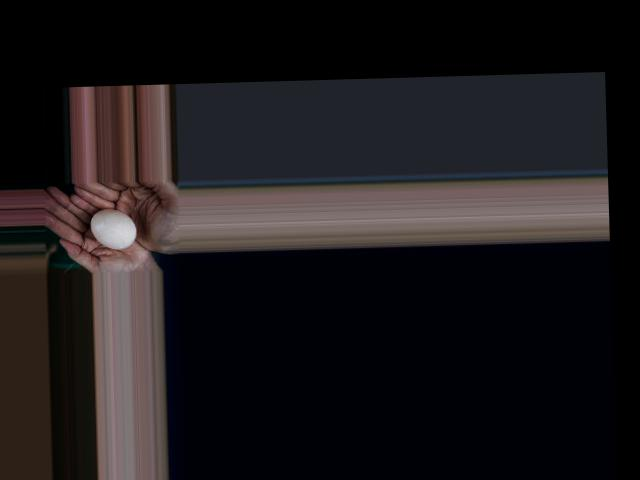egg: (89, 208, 136, 248)
